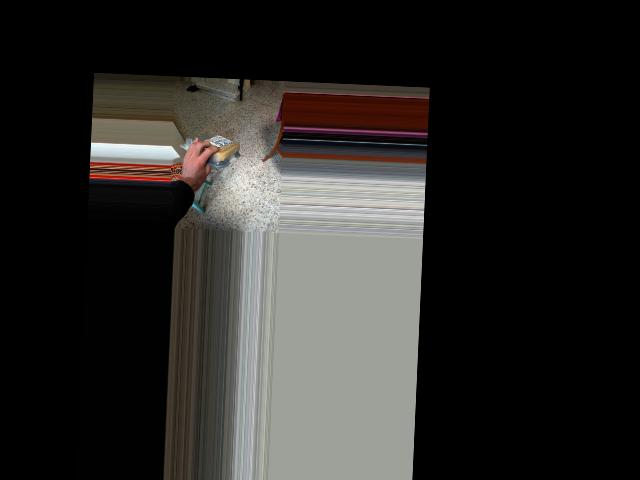cheese: (196, 132, 242, 164)
